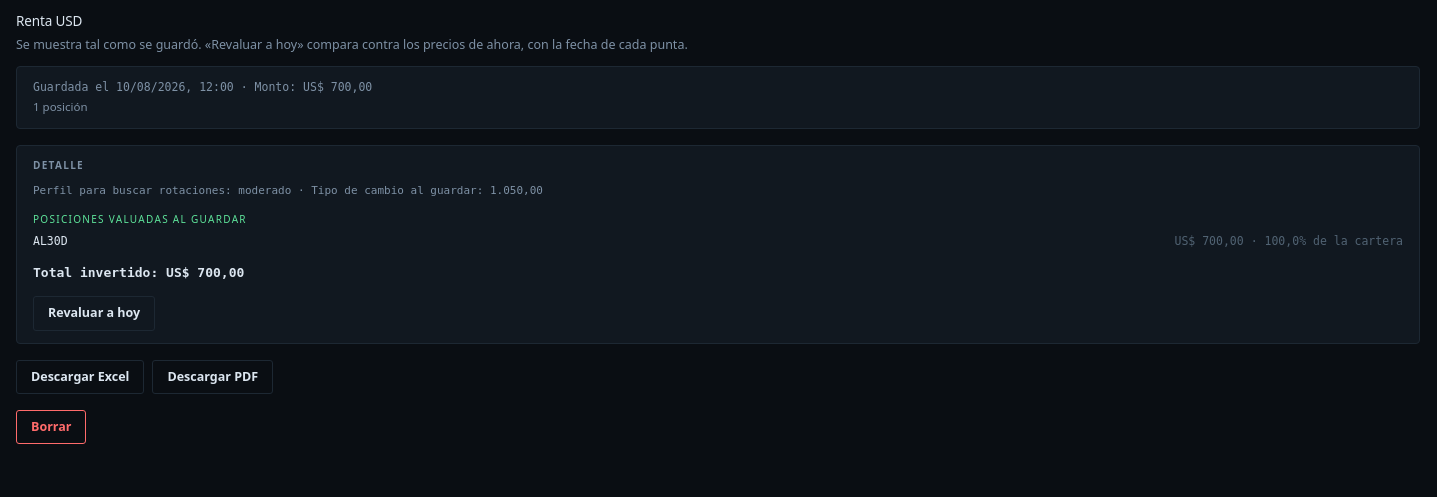
Test: CarteraGuardadaPage — GWT-1: por defecto, sin pedir nada al mercado › al hacer click en «Revaluar a hoy», recién ahí se piden los precios de hoy
The image size is (1437, 497).
Check: the text "AL30D" is shown, box [33,233,68,250]
Click the button "Revaluar a hoy": (94, 314) [33,296,155,331]
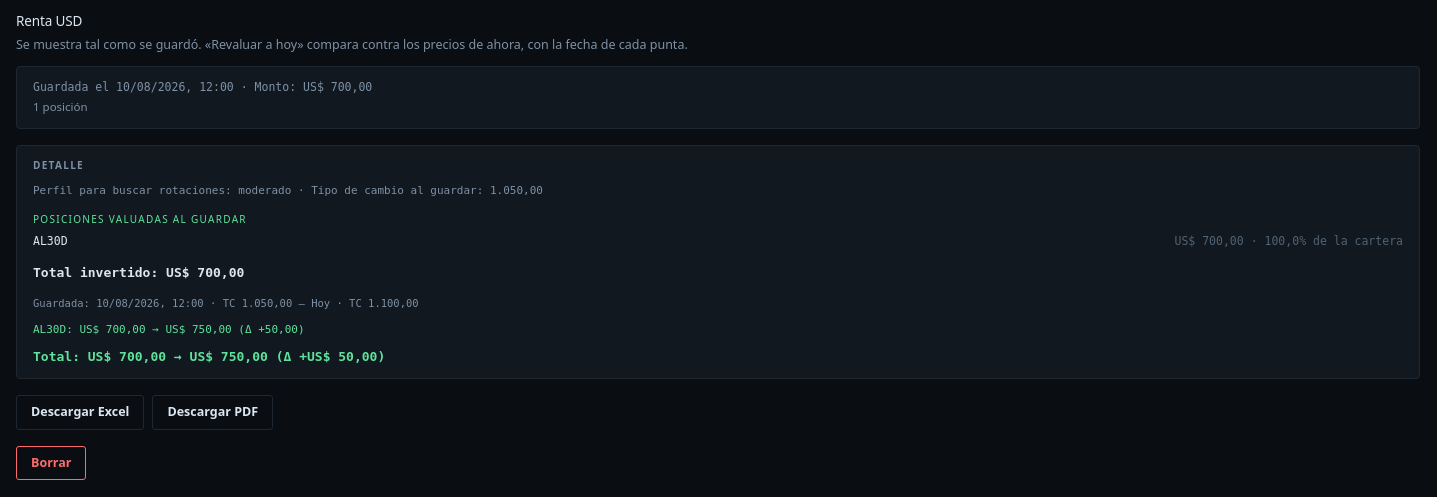
Check: the element named "Revaluación a hoy" is shown, box [33,298,419,364]
